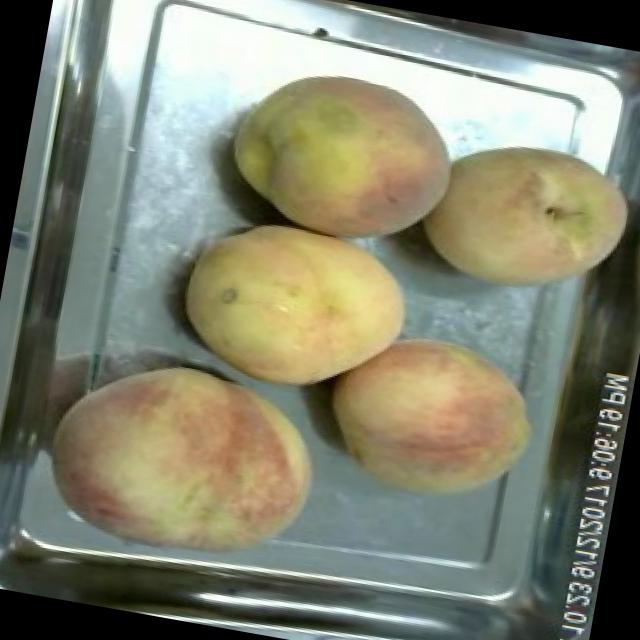Fruit: (22, 336, 342, 598), (162, 200, 425, 414), (210, 46, 474, 259), (306, 312, 554, 522), (402, 114, 640, 318)
